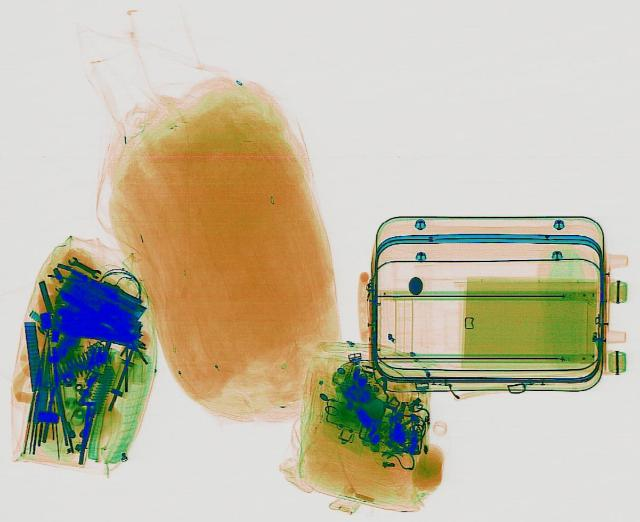Wrench: (64, 255, 102, 279)
